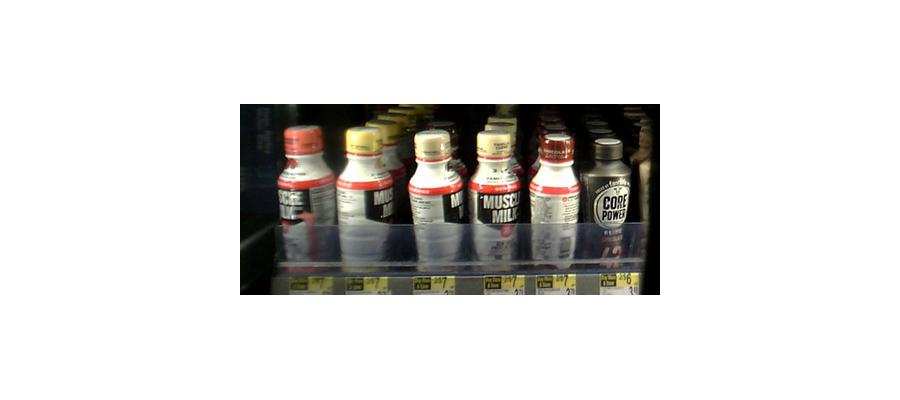bottle: (339, 125, 401, 274), (281, 122, 335, 275), (409, 131, 466, 272), (469, 125, 523, 266), (529, 133, 579, 272), (581, 135, 631, 265)
